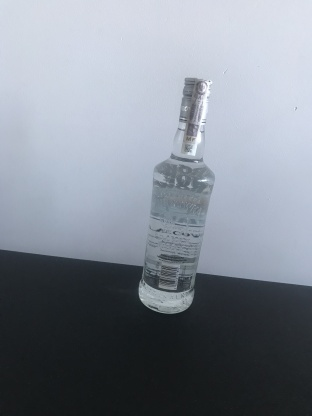nakretka: (177, 73, 214, 127)
